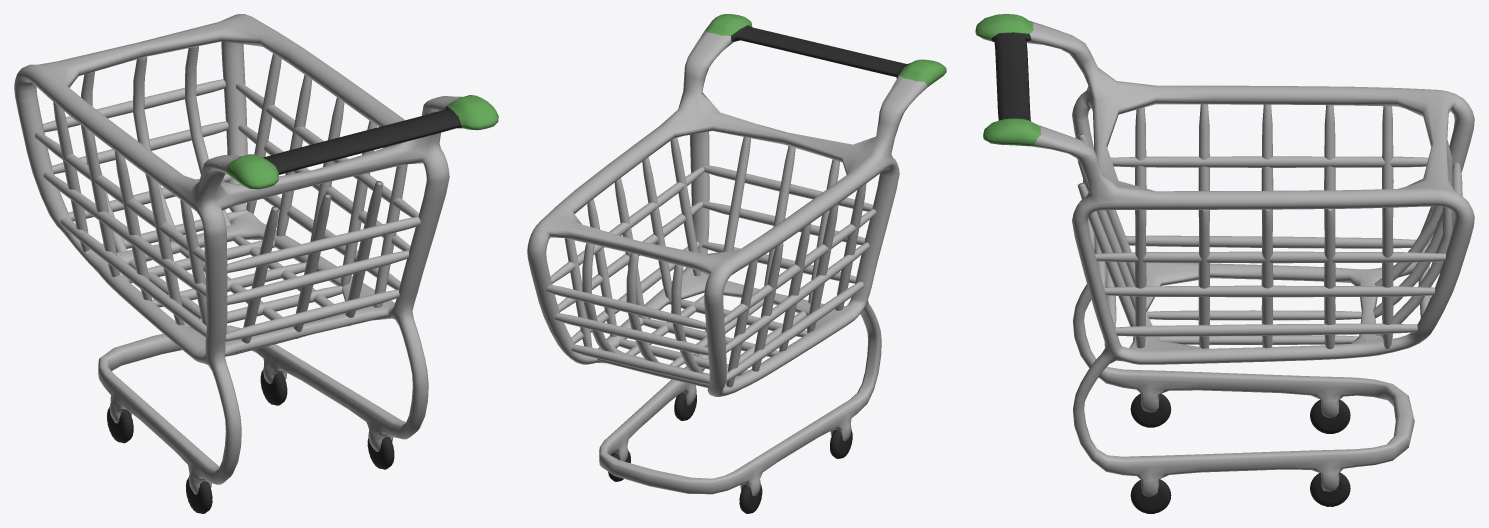
File: shopCart.fbx
The picture shows the model from 3 angles, left to right: view 1: azimuth 30°, elevation 25°; view 2: azimuth 150°, elevation 25°; view 3: azimuth 270°, elevation 25°; orthographic projection. The views are drawn at different scales.
Visible parts, largest first — view 1: polySurface118; view 2: polySurface118; view 3: polySurface118.
Part boxes in pixels (x1,y1,x2,y2): polySurface118: (14,14,498,513); polySurface118: (527,14,946,513); polySurface118: (975,14,1474,513).
Bounding box in the file's own units: 4.79 × 7.26 × 8.18.
1 material, 1 textured.
